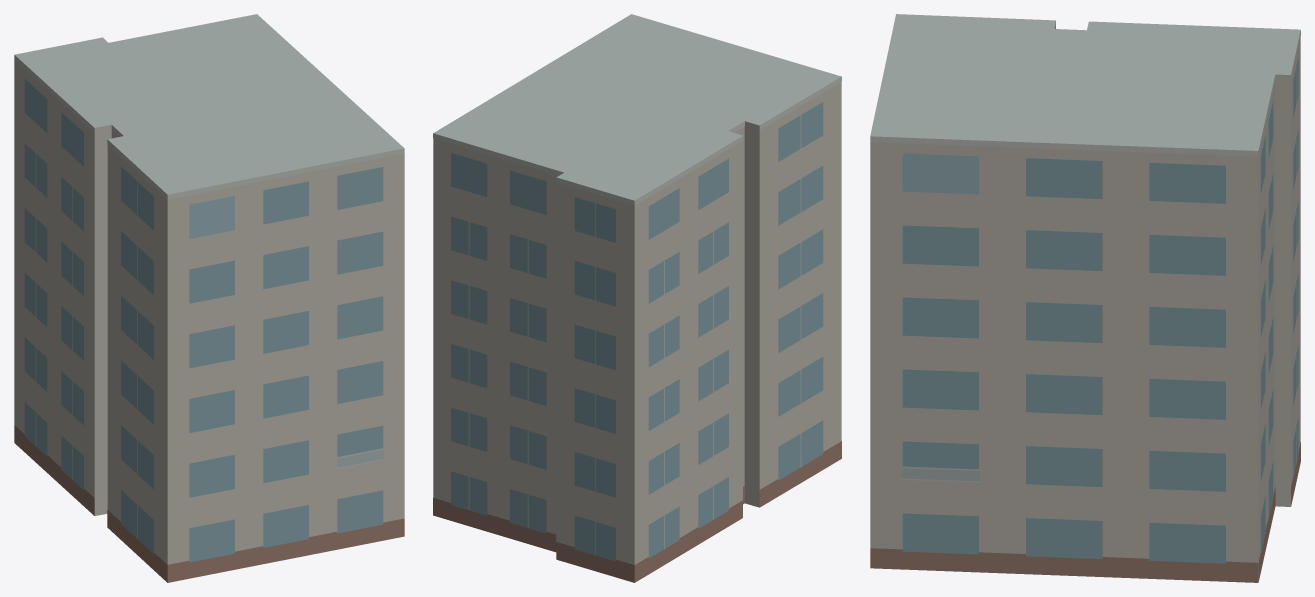
File: survey-upis-33047589.glb
3 renders of one model, left to right at view 1: azimuth 30°, elevation 25°; view 2: azimuth 150°, elevation 25°; view 3: azimuth 270°, elevation 25°, orthographic. The views are drawn at different scales.
Parts seen in each view (by area): view 1: survey-upis-33047589.tmp; view 2: survey-upis-33047589.tmp; view 3: survey-upis-33047589.tmp.
Part boxes in pixels (x1,y1,x2,y2): survey-upis-33047589.tmp: [14, 14, 404, 582]; survey-upis-33047589.tmp: [433, 14, 841, 582]; survey-upis-33047589.tmp: [870, 14, 1300, 582].
Bounding box in the file's own units: 12.46 × 18.3 × 16.55.
